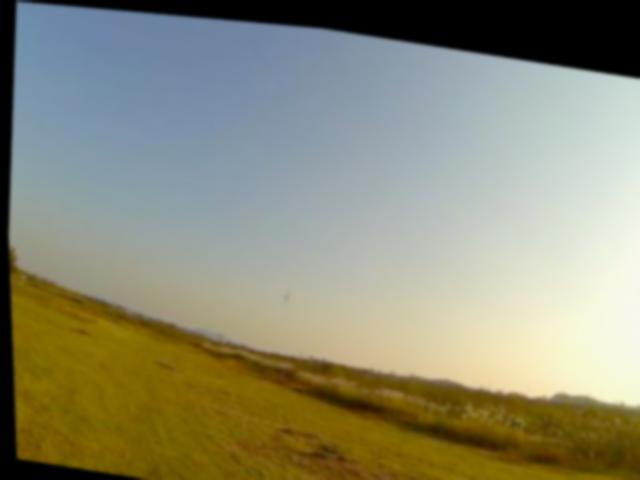uav: (270, 272, 295, 310)
